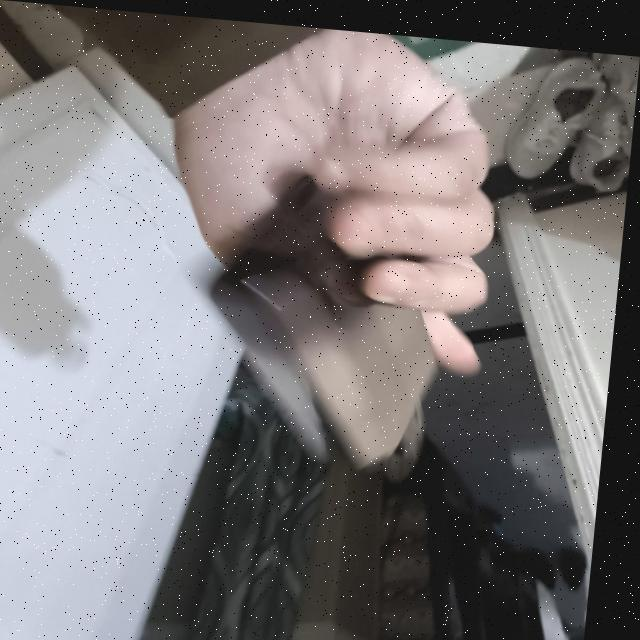Afnan: (200, 163, 459, 477)
